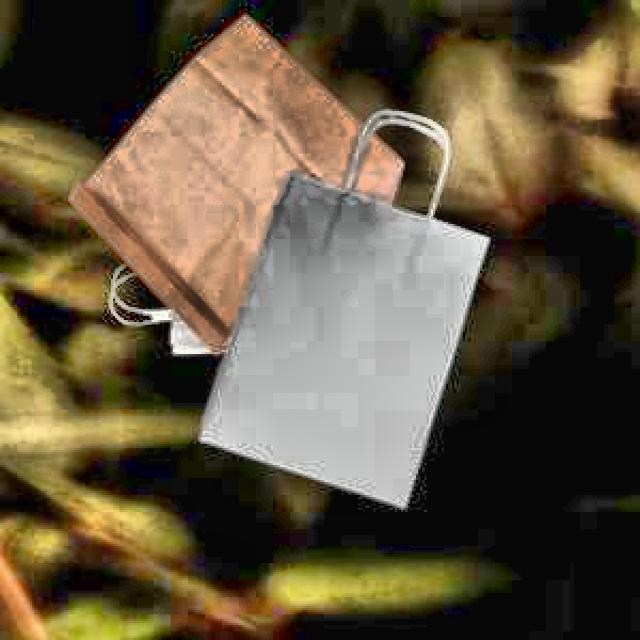Paper-bag: (193, 92, 503, 538)
